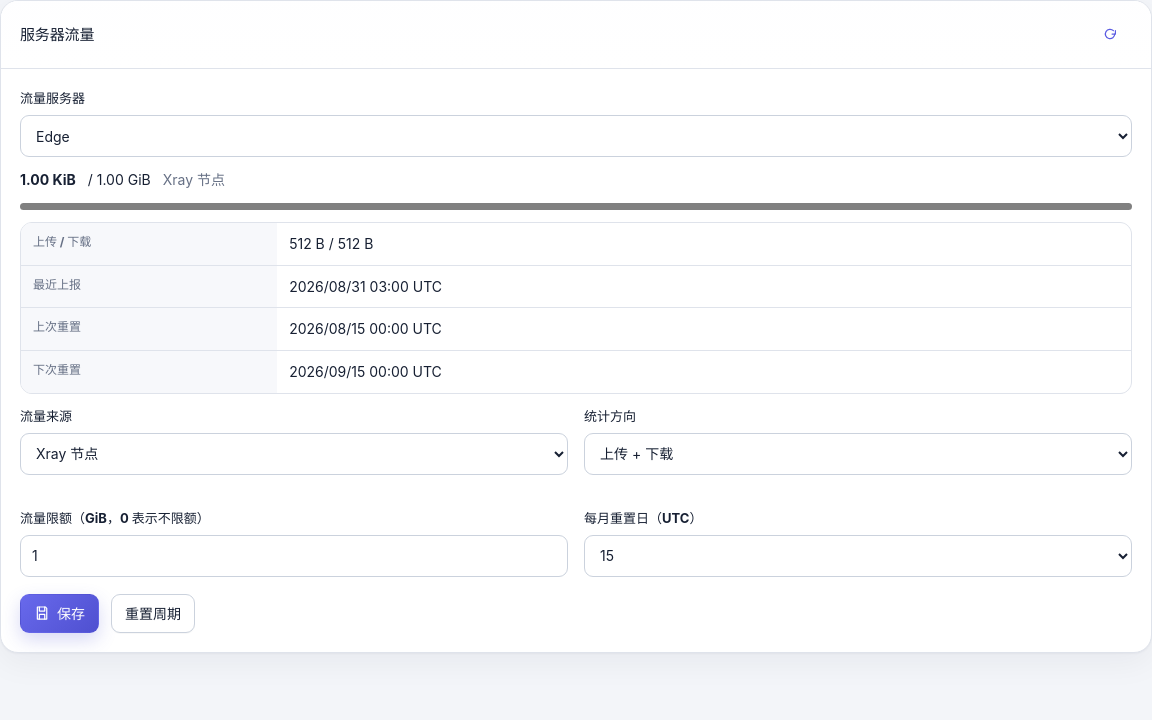
Test: React server traffic settings › shows failed saves without discarding draft input
Replace the text in the number field named "流量限额（GiB，0 表示不限额）" with "4" at [294, 556], box [20,535,568,577]
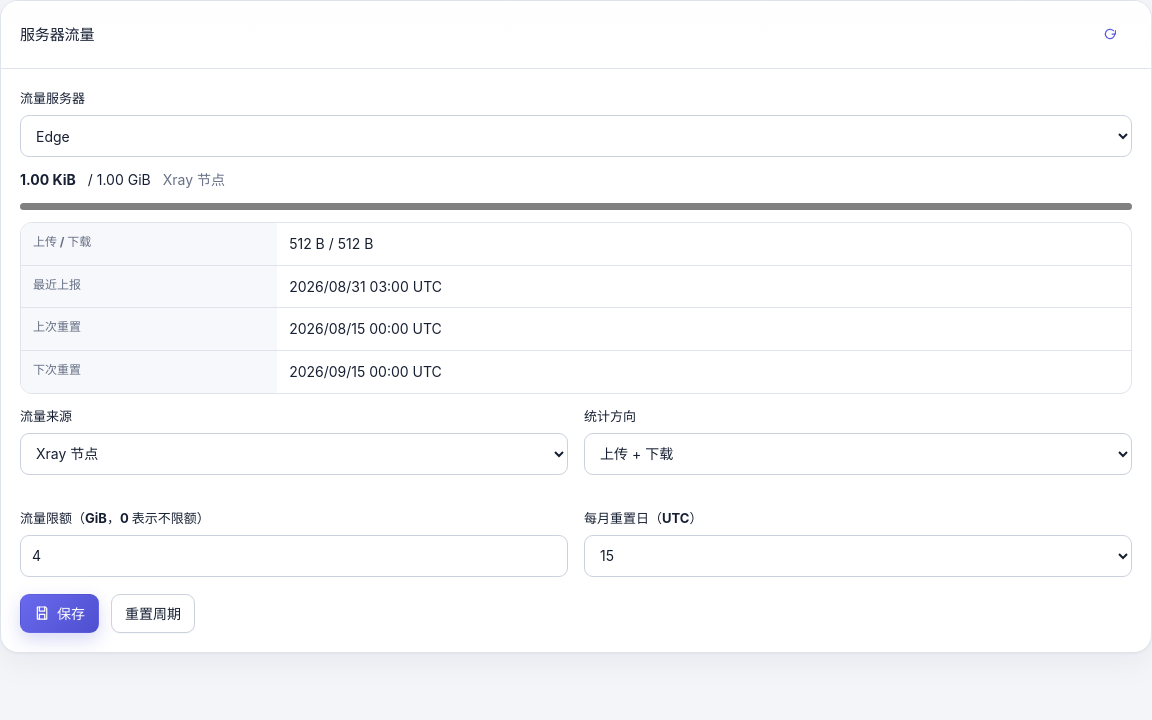
Click the button "保存" at [60, 613], box [20,594,99,633]
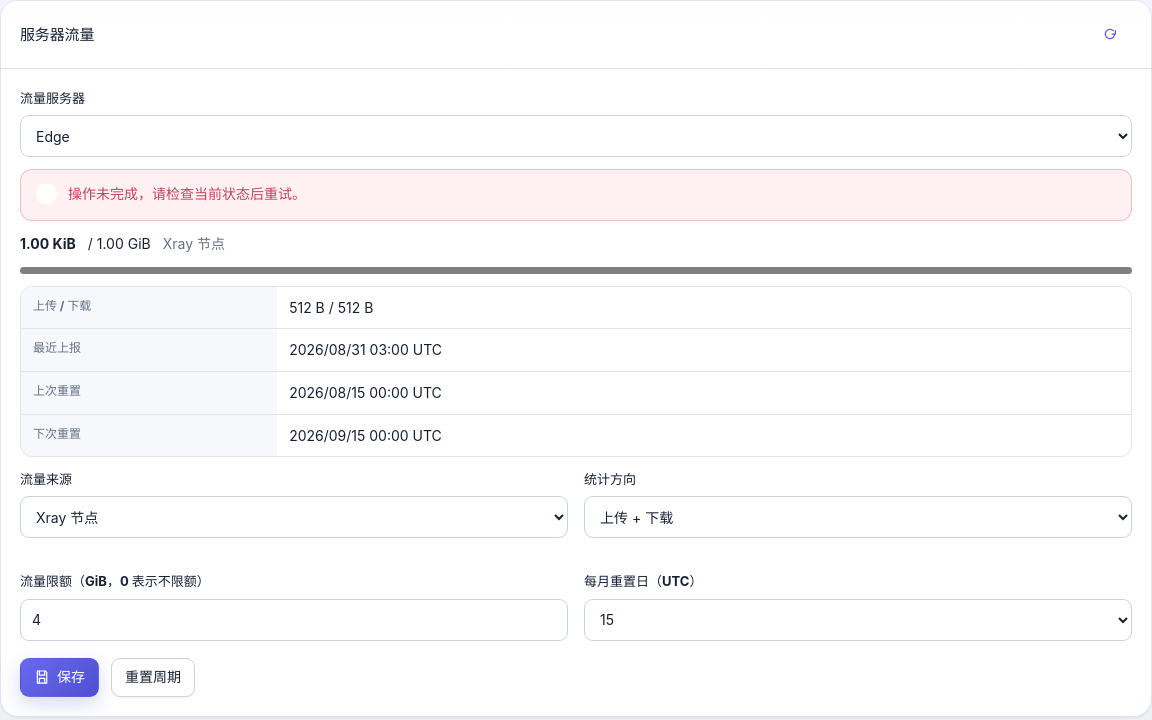
Expected: the text "Traffic revision rejected" is not shown
Expected: the text "操作未完成，请检查当前状态后重试。" is shown, [68,185,306,202]
